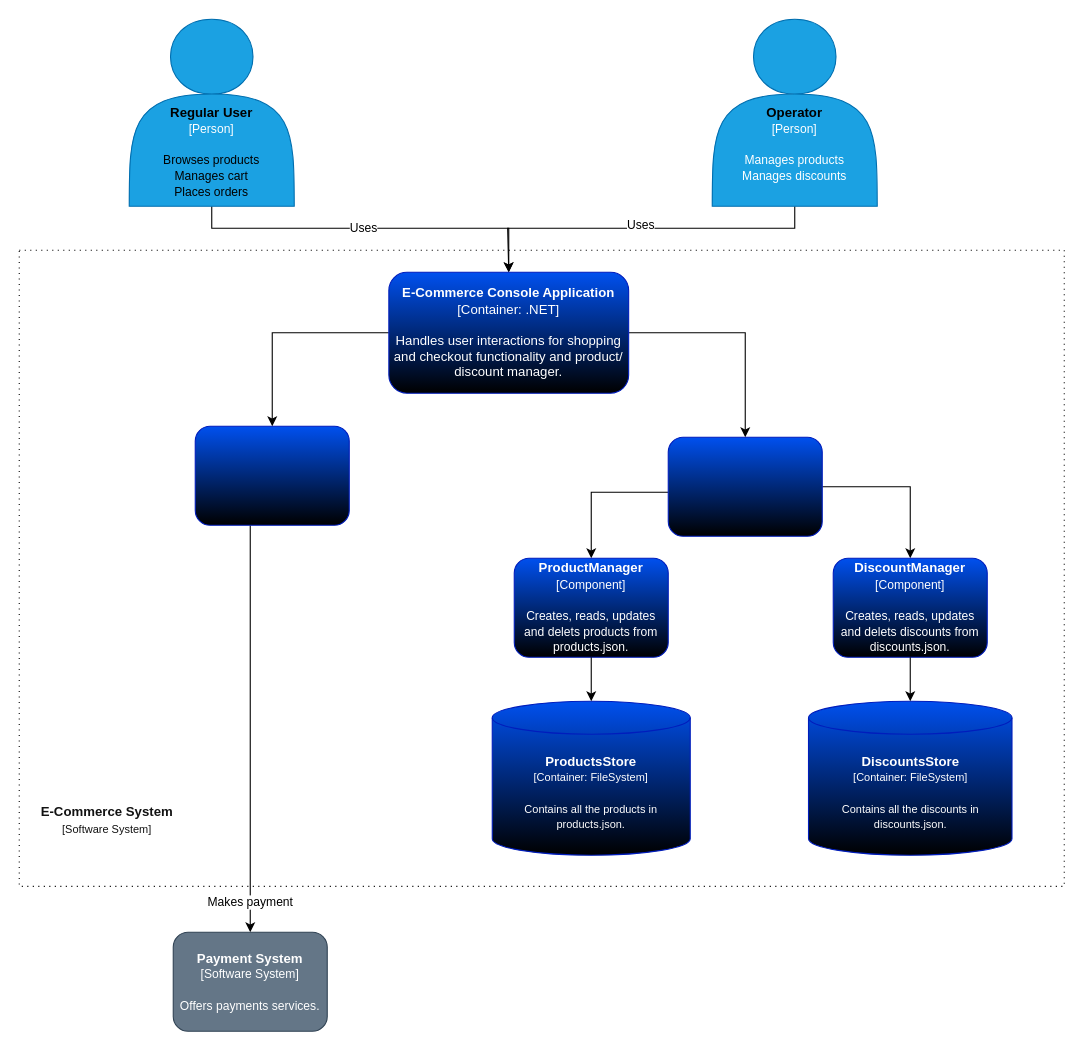
The diagram is 1084 pixels wide and 1051 high, and some of its shapes have lost their labels. Each missing label, with the centre of its shape:
"OperatorUser [Component] Handles products and discount campaigns." goes at point (744, 486).
"RegularUser [Component] Handles browsing, cart and checkout of the products." goes at point (271, 475).
